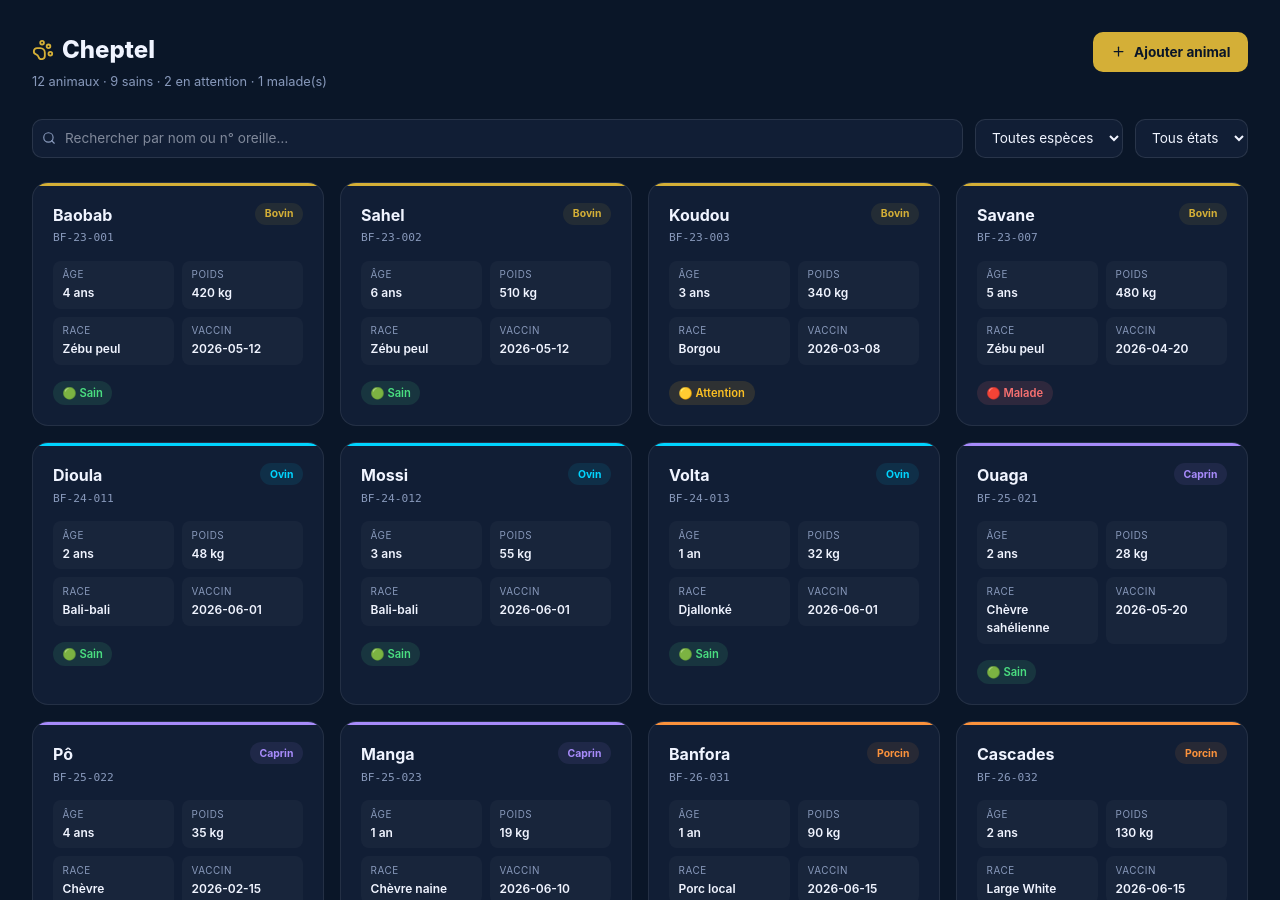
AnimauxPage › filters to show only Baobab when searching "Baobab"
This screenshot has width=1280, height=900.
In the field with placeholder "Rechercher par nom ou n° oreille…": (498, 138) 32,119 -> 963,158, type "Baobab"
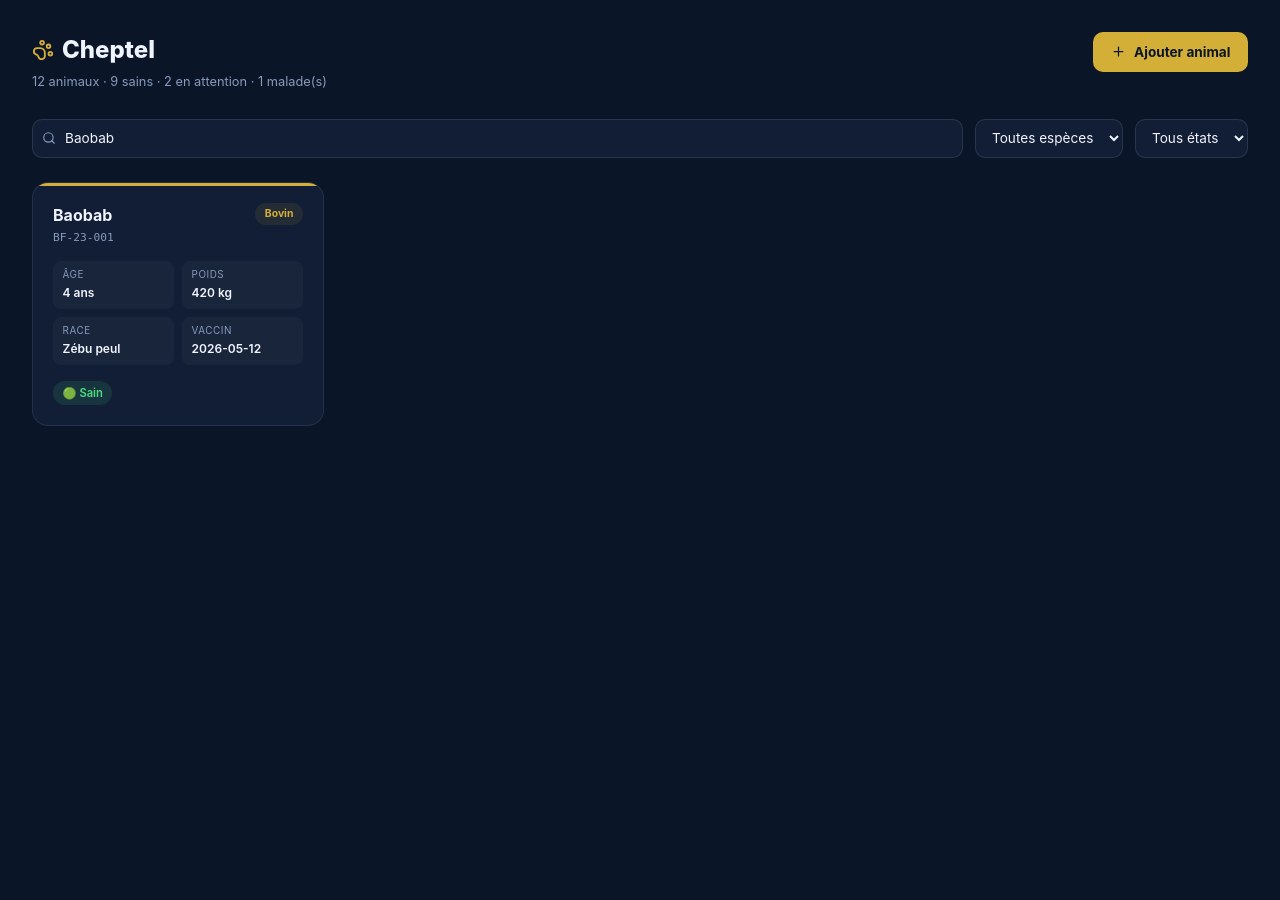
Expected: the text "Baobab" is shown, 53,203 -> 114,227
Now the text "Sahel" is gone
